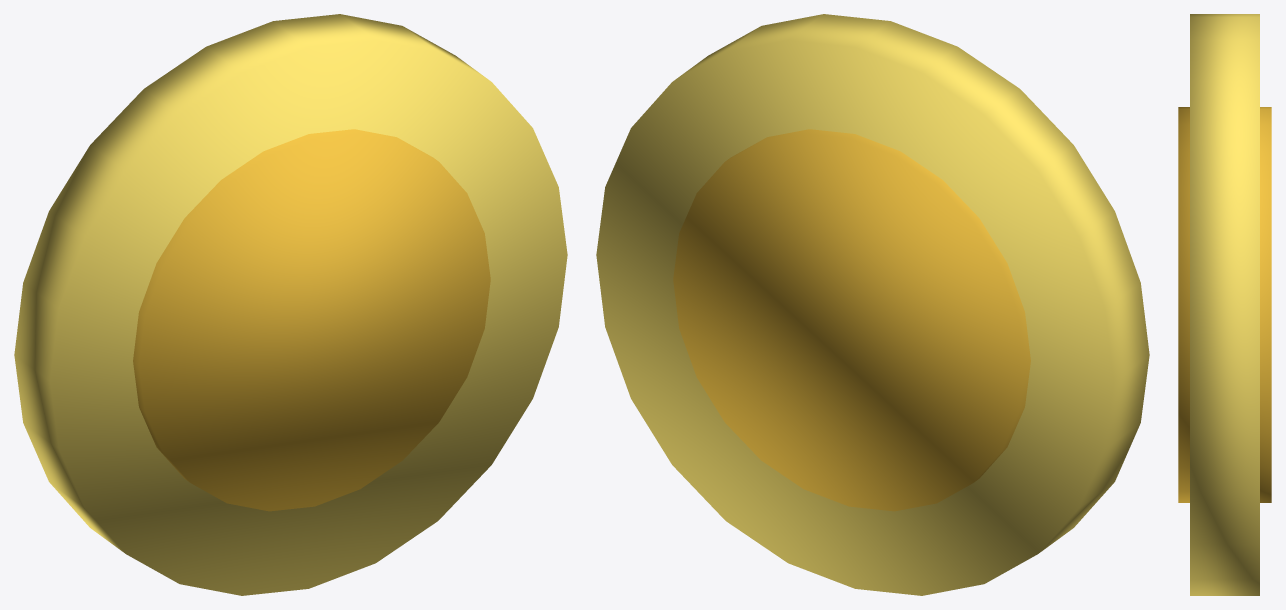
File: Coin.fbx
The picture shows the model from 3 angles, left to right: view 1: azimuth 30°, elevation 25°; view 2: azimuth 150°, elevation 25°; view 3: azimuth 270°, elevation 25°; orthographic projection. The views are drawn at different scales.
Visible parts, largest first — view 1: Coin; view 2: Coin; view 3: Coin.
Part boxes in pixels (x1,y1,x2,y2): Coin: [14, 14, 567, 595]; Coin: [596, 14, 1149, 595]; Coin: [1178, 14, 1271, 595].
Bounding box in the file's own units: 0.5 × 0.5 × 0.08.
